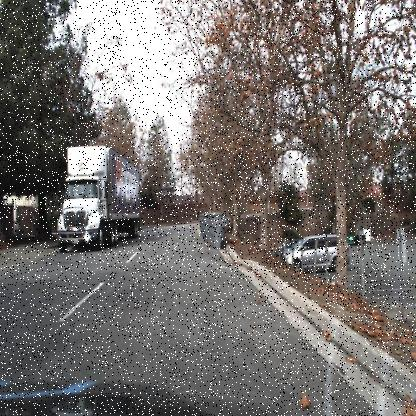car: (280, 232, 350, 273), (271, 235, 302, 262)
truck: (56, 144, 140, 256)
